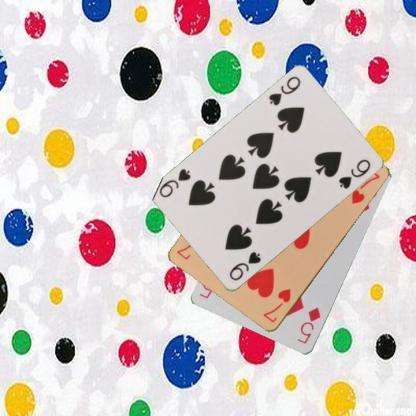5d: (295, 305, 322, 346)
7h: (260, 286, 292, 324)
9s: (226, 249, 262, 283), (266, 74, 302, 107)
